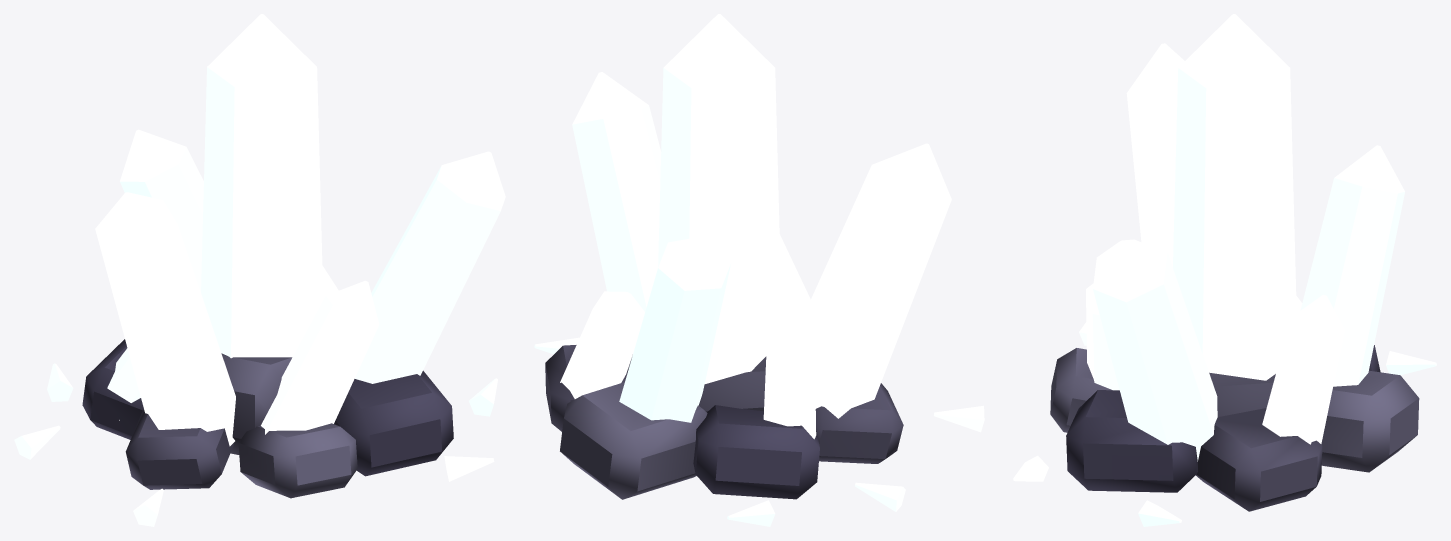
The model's file is n_crystal_1.glb.
3 renders of one model, left to right at view 1: azimuth 30°, elevation 25°; view 2: azimuth 150°, elevation 25°; view 3: azimuth 270°, elevation 25°, orthographic.
Visible parts, largest first — view 1: crystal_glow, body; view 2: crystal_glow, body; view 3: crystal_glow, body.
Part boxes in pixels (x1,y1,x2,y2): crystal_glow: (14,14,505,526); body: (82,339,453,498); crystal_glow: (534,14,984,526); body: (545,345,903,499); crystal_glow: (1013,14,1436,526); body: (1050,345,1419,511).
Bounding box in the file's own units: 2.43 × 2.38 × 2.08.
